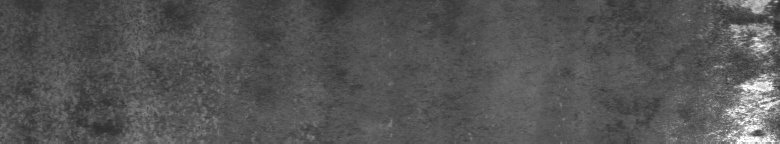kb: (709, 4, 776, 136)
